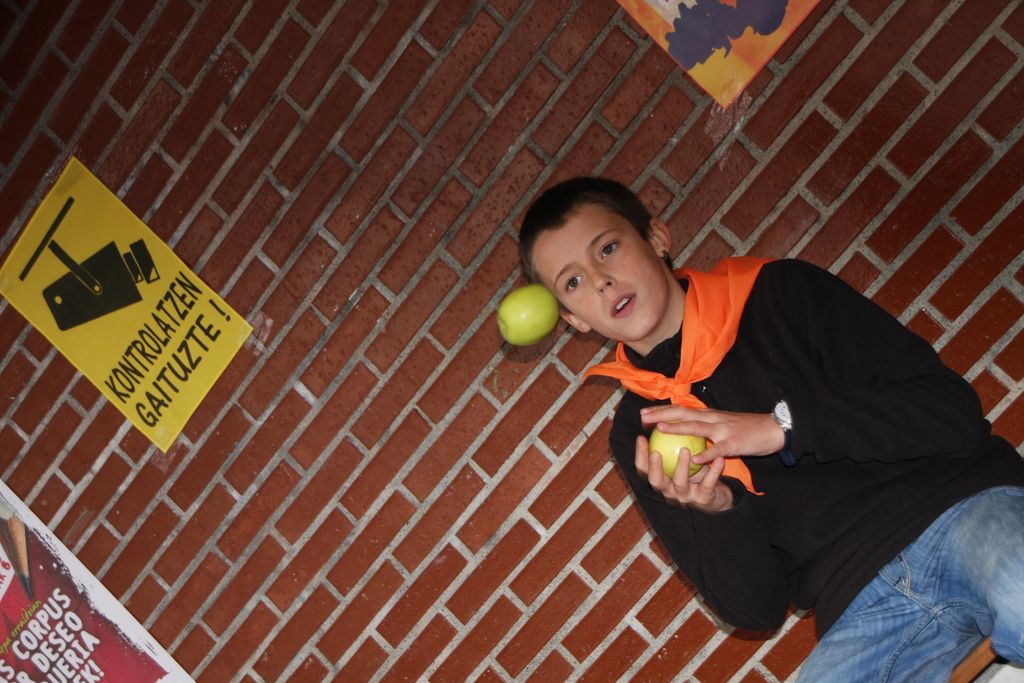Human-face: (530, 208, 670, 344)
